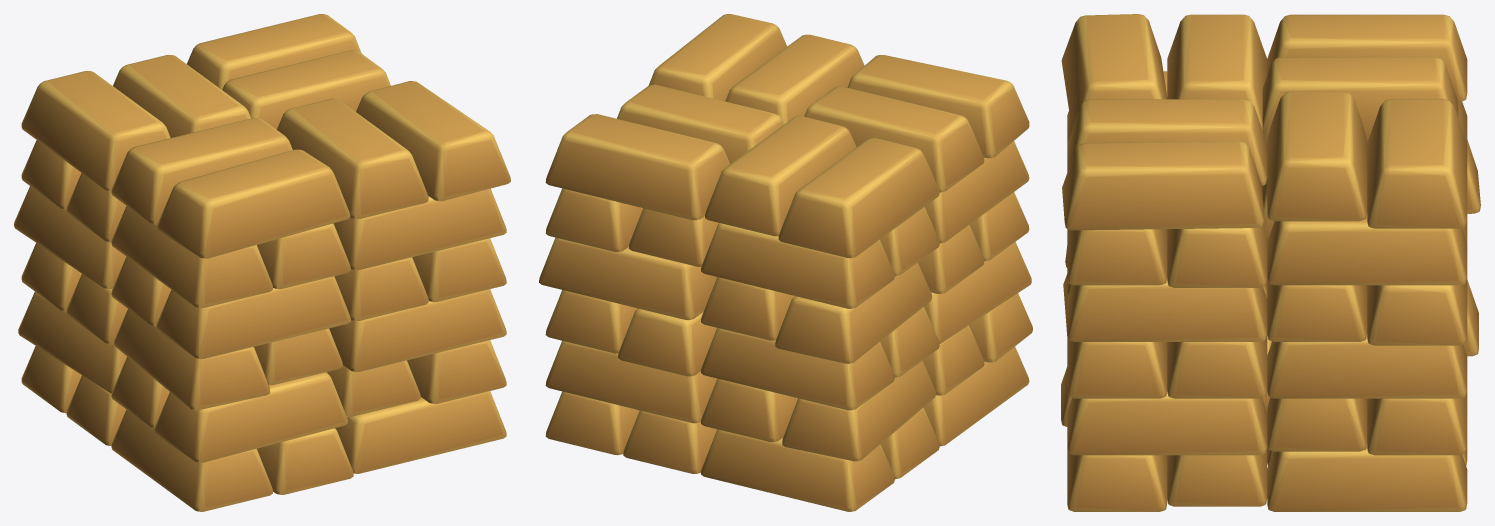
The model's file is gold_bars_stack_large.glb.
3 renders of one model, left to right at view 1: azimuth 30°, elevation 25°; view 2: azimuth 150°, elevation 25°; view 3: azimuth 270°, elevation 25°, orthographic. The views are drawn at different scales.
Visible parts, largest first — view 1: Gold_Bars_Stack_Large; view 2: Gold_Bars_Stack_Large; view 3: Gold_Bars_Stack_Large.
Boxes of the visible parts, bbox=[...] form: Gold_Bars_Stack_Large: bbox=[14, 14, 510, 511]; Gold_Bars_Stack_Large: bbox=[539, 14, 1032, 511]; Gold_Bars_Stack_Large: bbox=[1061, 14, 1480, 511].
Size of the model in its own units: 0.9946 by 0.9 by 1.01.
Materials: 1 (1 with a texture image).
